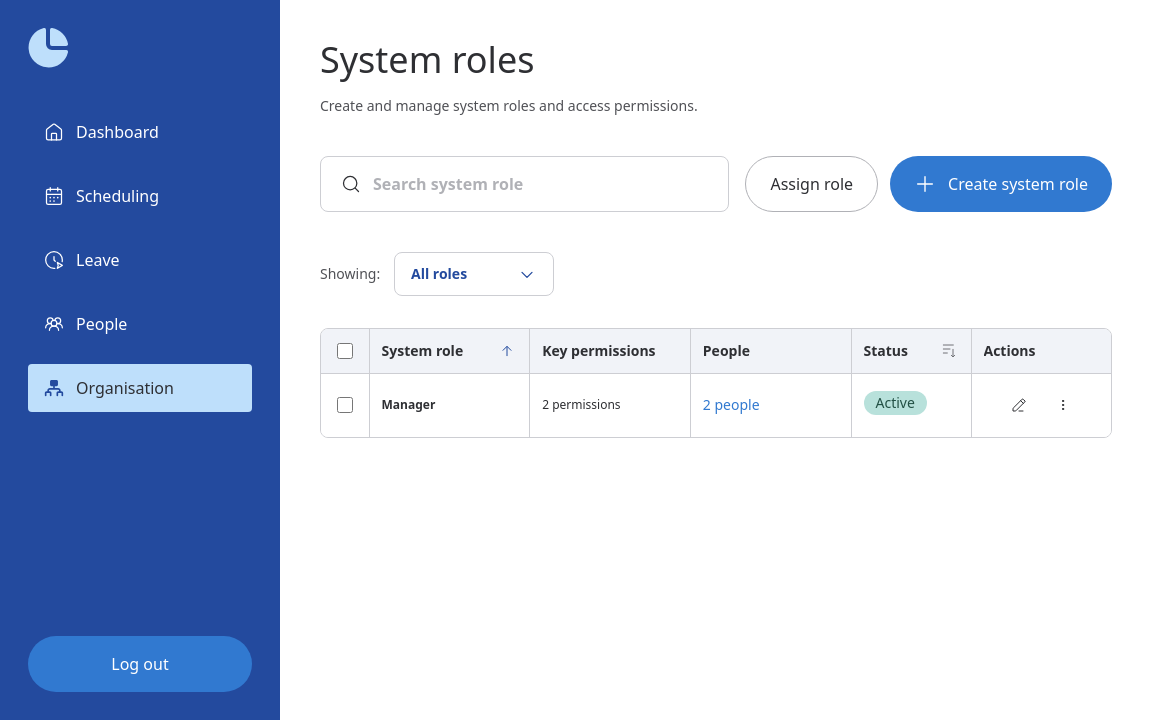
Test: System role list actions › offers each action once, leaving Edit to the pencil
Expected: the button named "Edit Manager" is enabled, [1001,387,1037,423]
Click the button named "More actions for Manager" at (1063, 405), box [1045,387,1081,423]
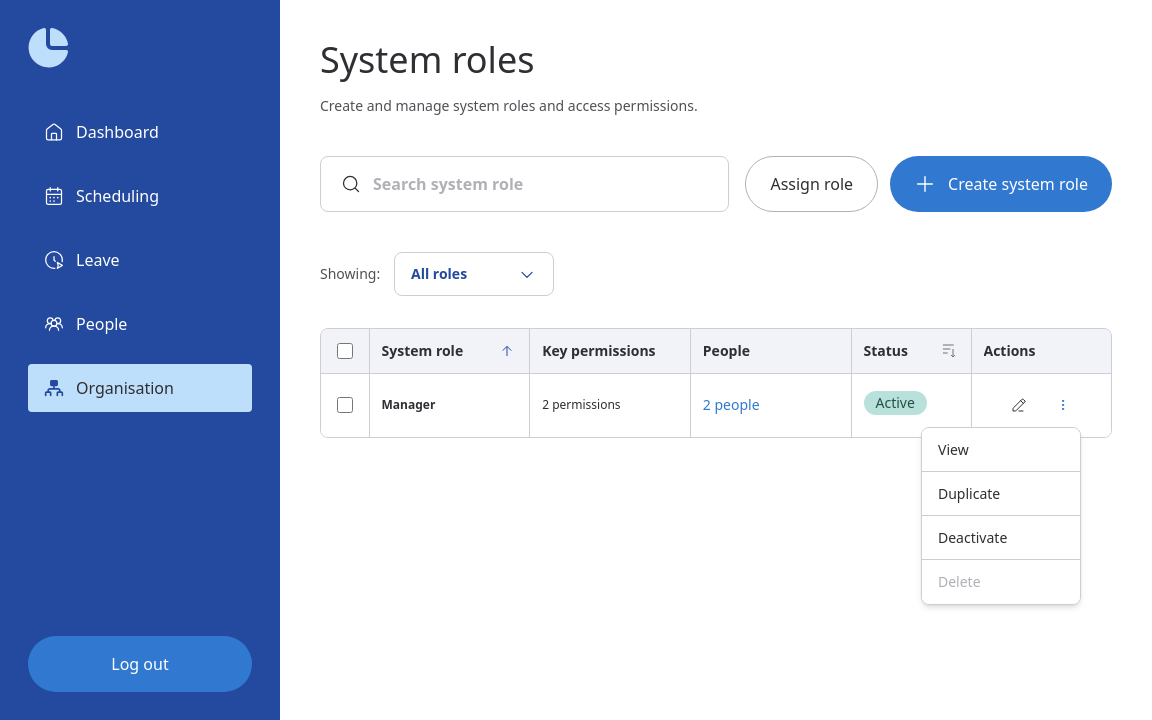
Expected: the menu items read "View", "Duplicate", "Deactivate", "Delete", in this order, [922,428,1080,472]; [922,472,1080,516]; [922,516,1080,560]; [922,560,1080,604]
